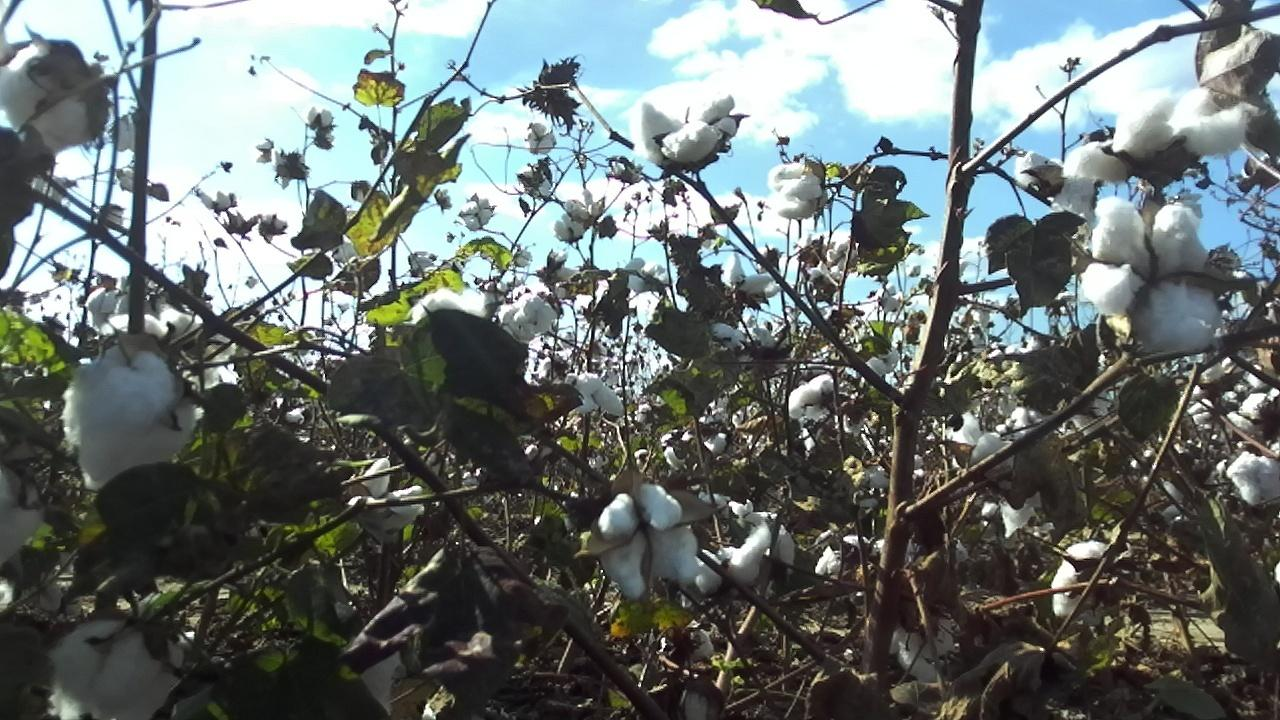cotton_ready: (1084, 195, 1224, 357), (61, 344, 199, 491), (1065, 87, 1252, 185), (44, 624, 192, 720), (0, 38, 105, 154), (600, 480, 700, 601), (100, 307, 237, 391), (972, 404, 1062, 493), (692, 519, 797, 594), (638, 90, 739, 167), (0, 464, 49, 575), (344, 457, 427, 522), (889, 610, 959, 686), (1050, 540, 1115, 619), (766, 160, 822, 218), (1229, 450, 1280, 510), (557, 375, 627, 417), (497, 294, 557, 342), (408, 290, 487, 326)
